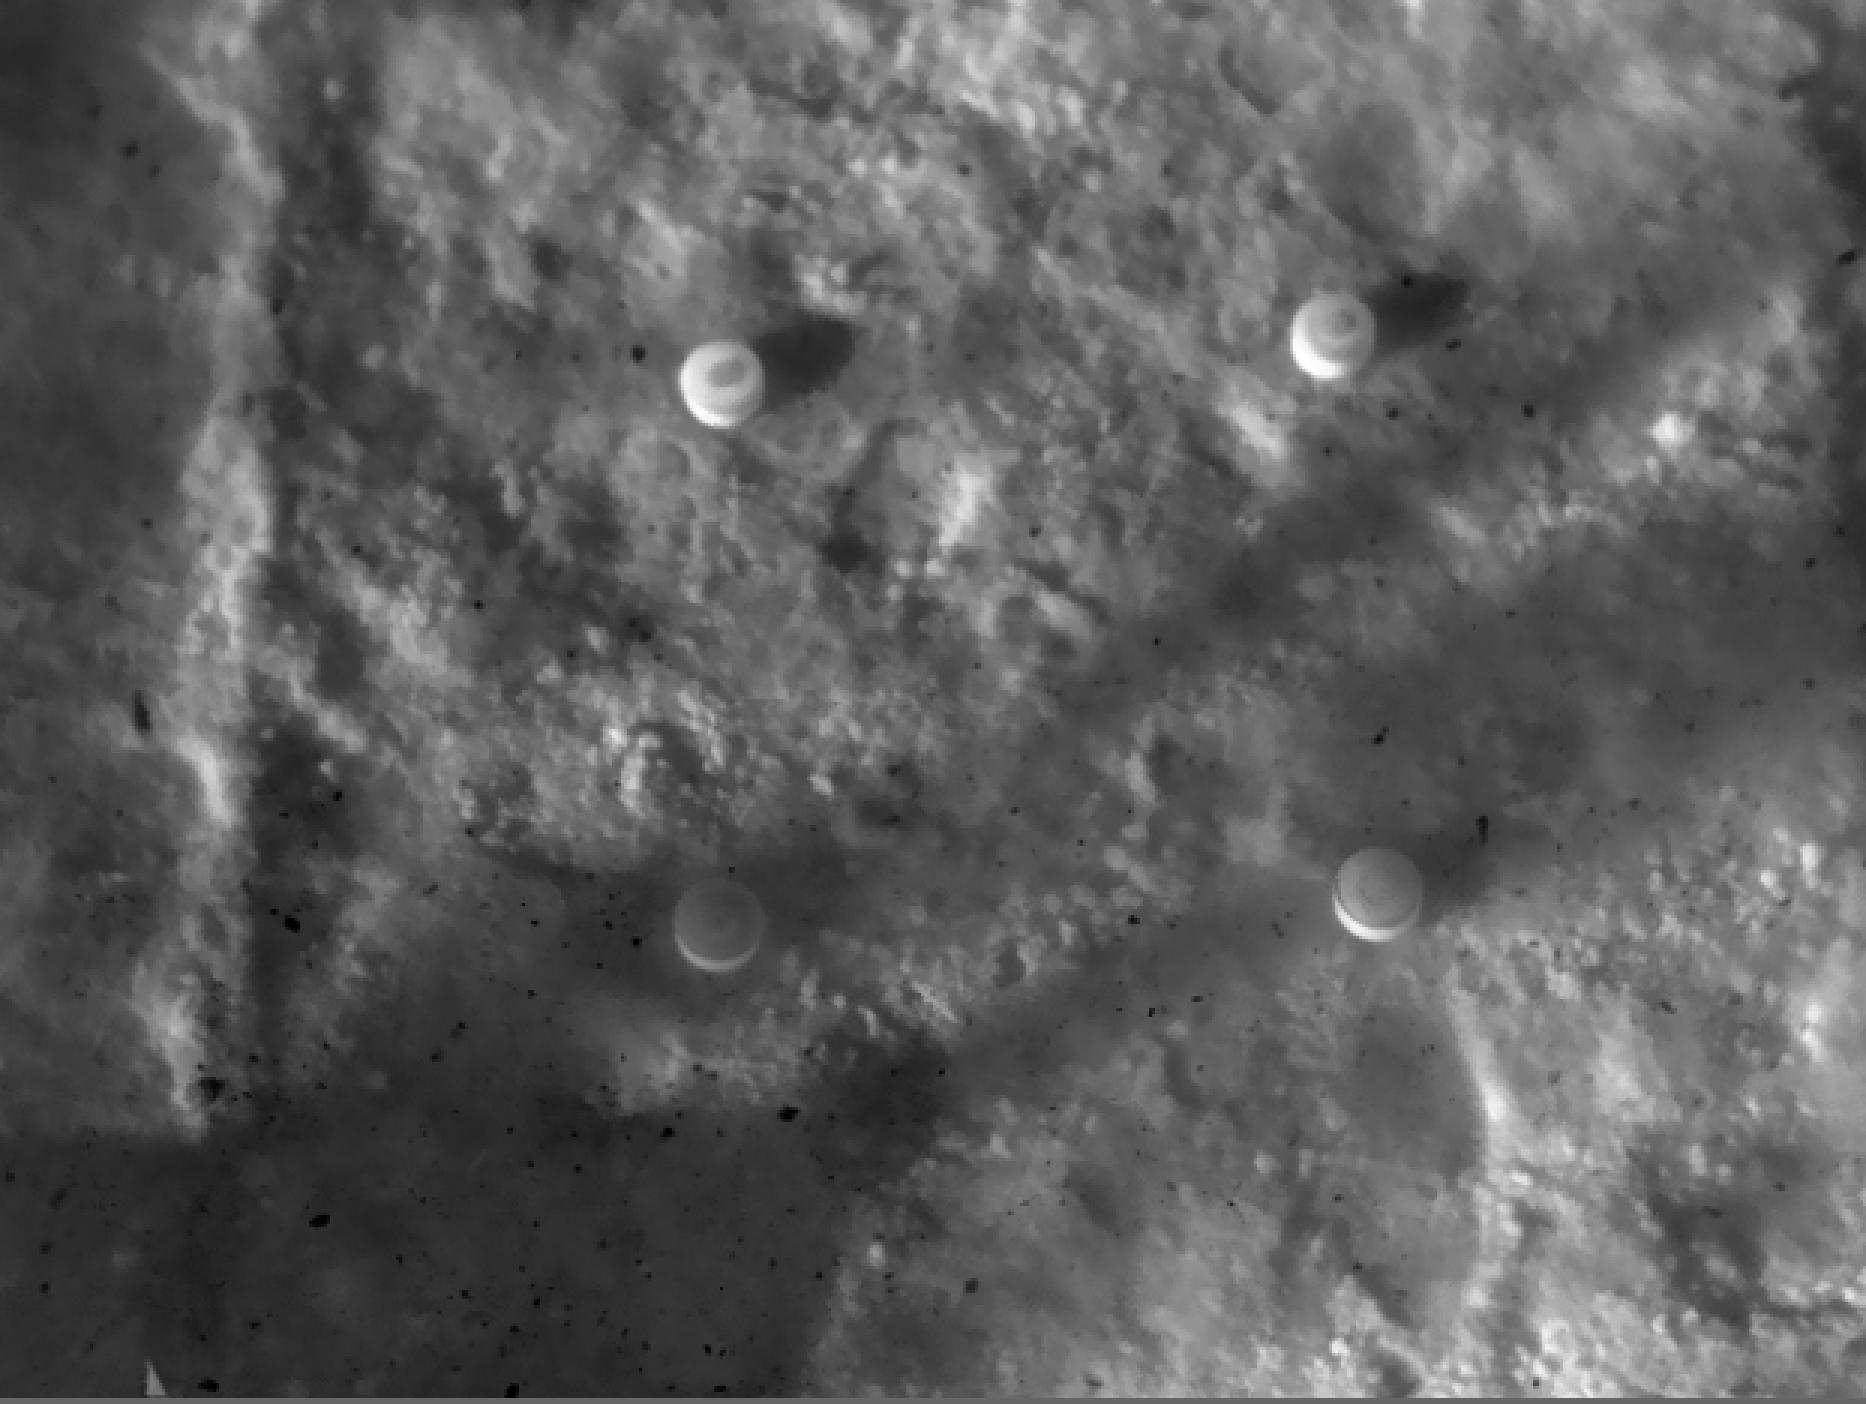mines-gjV8: (1285, 292, 1381, 380), (1342, 848, 1429, 936), (681, 892, 766, 984), (684, 335, 760, 429)
